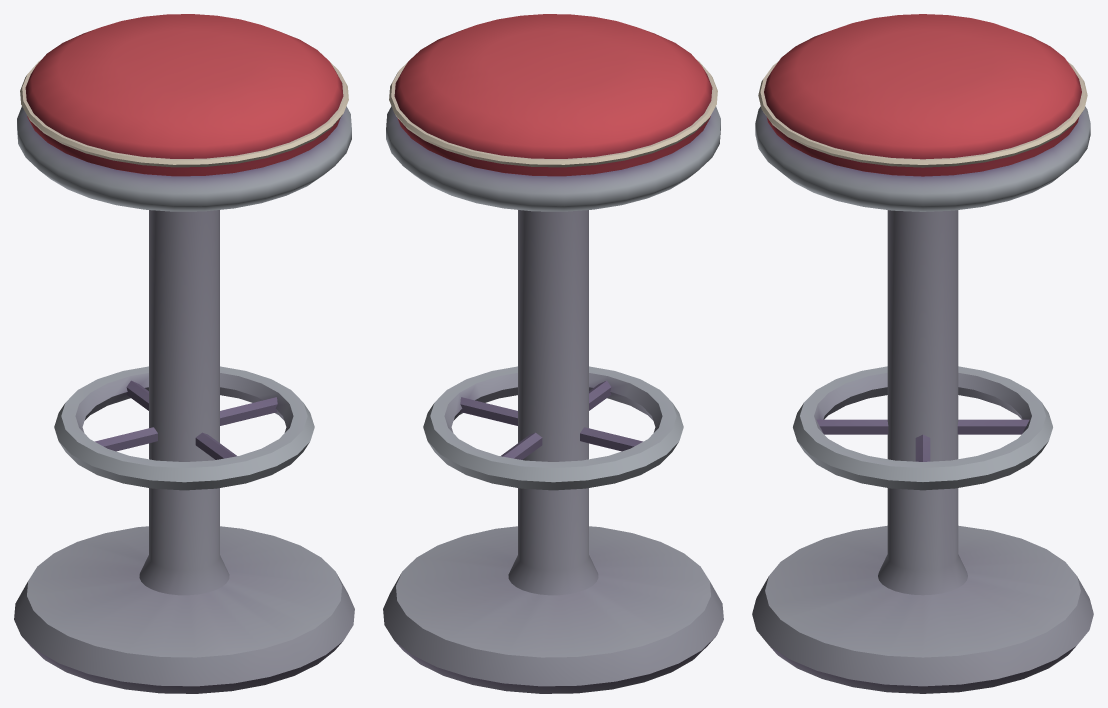
Rendered from stool_retro.glb.
3 renders of one model, left to right at view 1: azimuth 30°, elevation 25°; view 2: azimuth 150°, elevation 25°; view 3: azimuth 270°, elevation 25°, orthographic.
Visible parts, largest first — view 1: stool_retro; view 2: stool_retro; view 3: stool_retro.
Part boxes in pixels (<box>): stool_retro: <box>14,14,354,693</box>; stool_retro: <box>383,14,723,693</box>; stool_retro: <box>752,14,1093,693</box>.
Size of the model in its own units: 0.53 by 0.9712 by 0.53.
